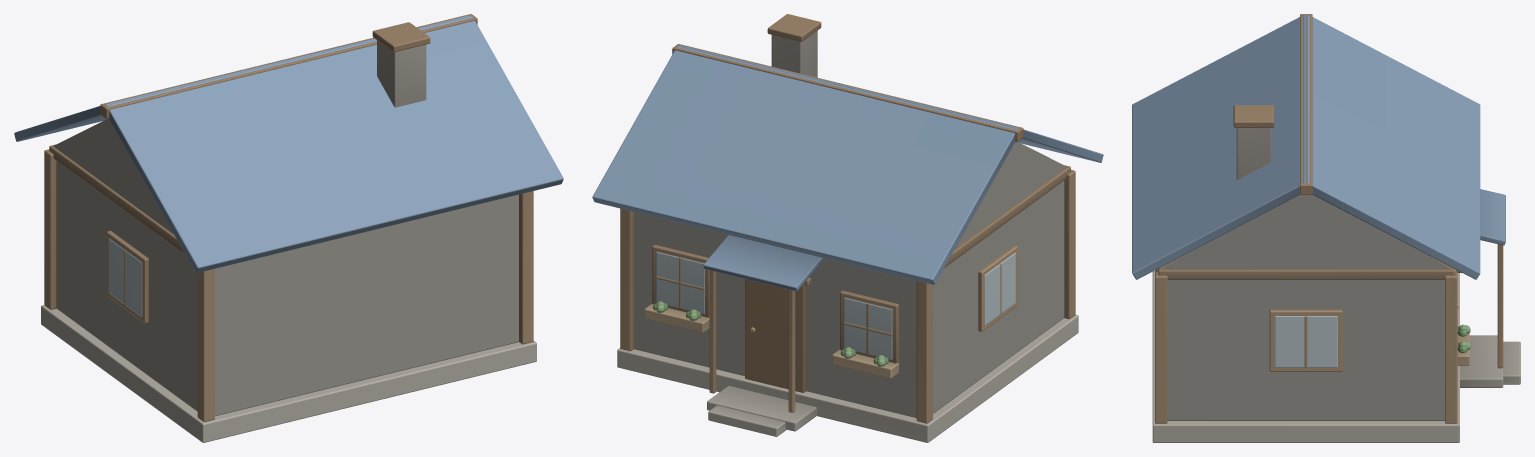
The model's file is home_house__blue.glb.
The picture shows the model from 3 angles, left to right: view 1: azimuth 30°, elevation 25°; view 2: azimuth 150°, elevation 25°; view 3: azimuth 270°, elevation 25°; orthographic projection. The views are drawn at different scales.
Size of the model in its own units: 7 by 5.59 by 6.7.
